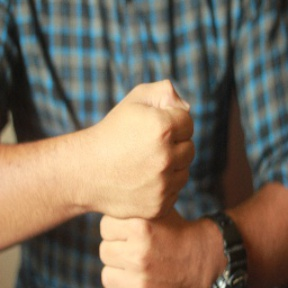G: (77, 80, 211, 288)
